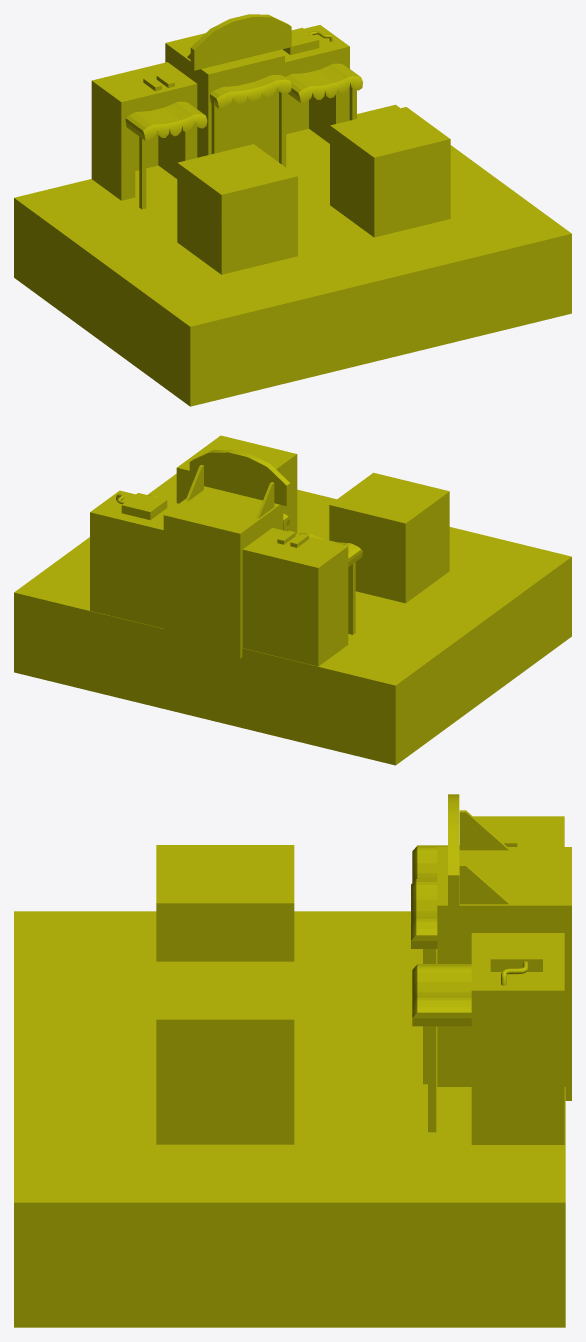
File: market_mall.glb
3 views of the same model, one above another, from view 1: azimuth 30°, elevation 25°; view 2: azimuth 150°, elevation 25°; view 3: azimuth 270°, elevation 25° (orthographic). The views are drawn at different scales.
Parts seen in each view (by area): view 1: market_mall; view 2: market_mall; view 3: market_mall.
Boxes of the visible parts, <box> form: market_mall: <box>14,14,571,406</box>; market_mall: <box>14,435,571,765</box>; market_mall: <box>14,794,571,1327</box>.
Size of the model in its own units: 4.5 by 2.69 by 3.64.
1 material, 1 textured.
